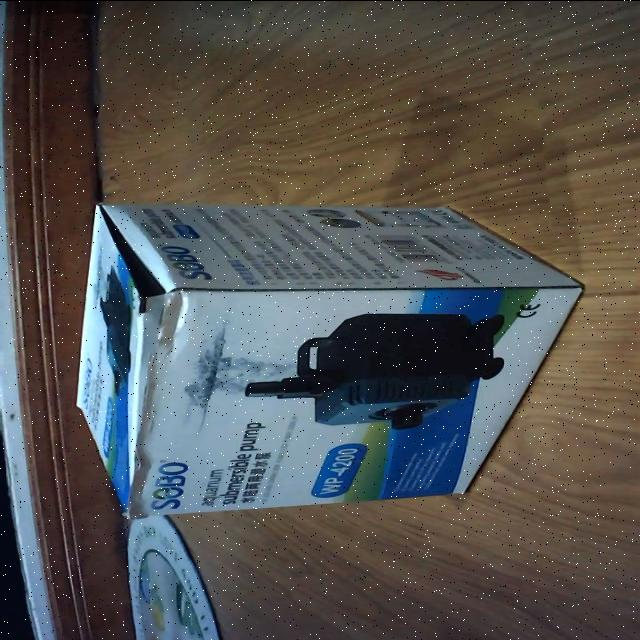SOBO_WP_4200: (63, 203, 585, 519)
